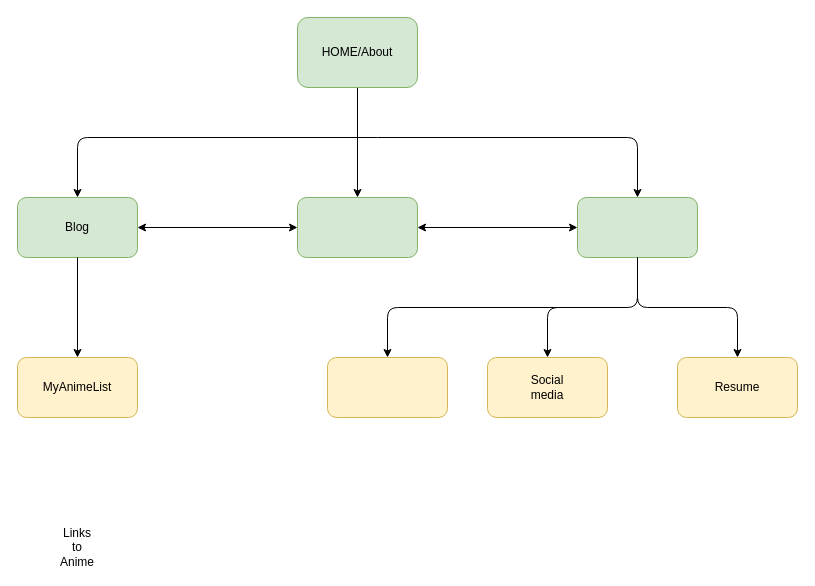
Image size: 815x586. Some labels were removed from this diagram. The box of each missing label's shape, as (x1, y1, x2, y2) in pixels:
Contact: (576, 196, 698, 258)
Experience: (296, 196, 418, 258)
Github: (326, 356, 448, 418)
